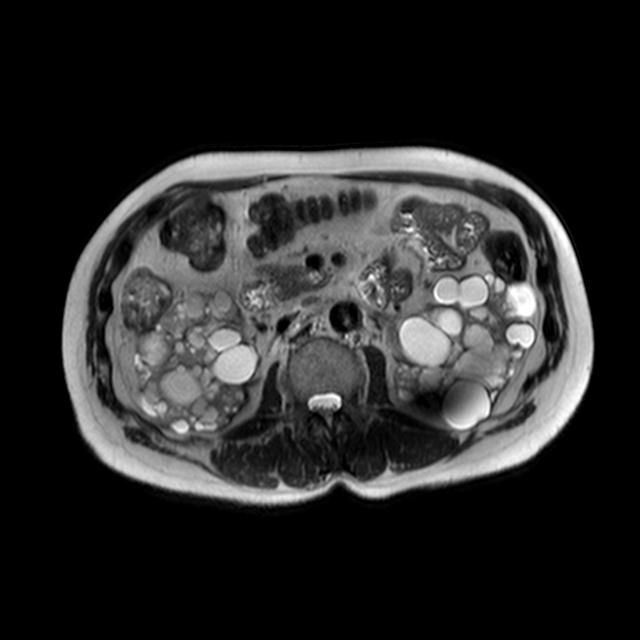sag: (130, 287, 260, 437)
sol: (382, 272, 541, 431)
